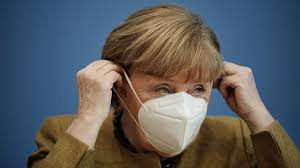mask: (139, 91, 207, 155)
